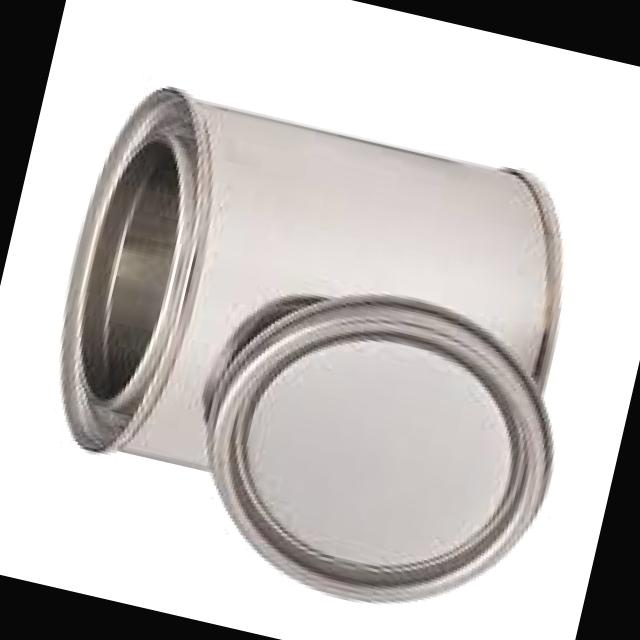metal: (62, 89, 559, 600), (63, 89, 556, 467), (209, 296, 549, 600)
